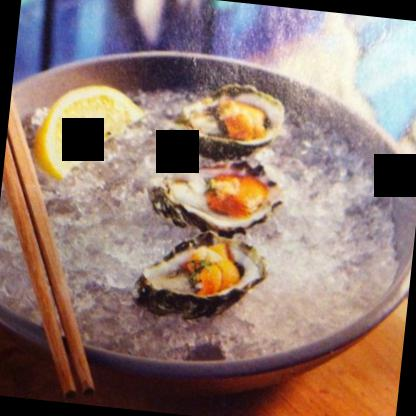oyster: (146, 235, 272, 324), (150, 150, 277, 238), (163, 84, 290, 158)
